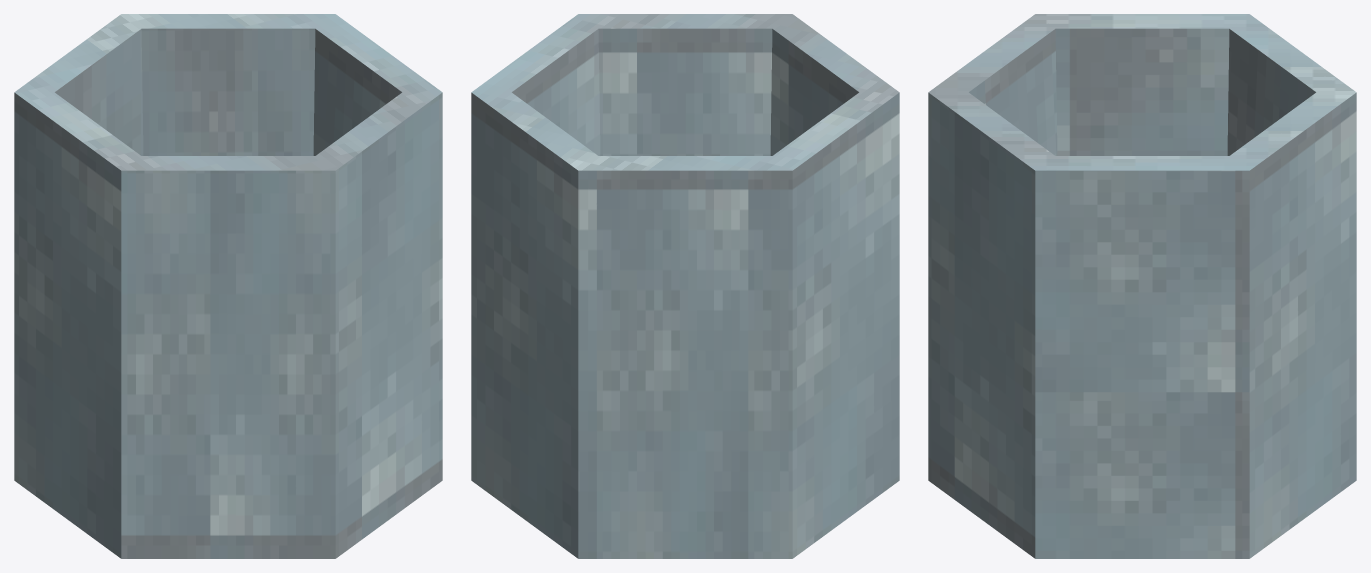
File: PSXGlassCup.glb
3 renders of one model, left to right at view 1: azimuth 30°, elevation 25°; view 2: azimuth 150°, elevation 25°; view 3: azimuth 270°, elevation 25°, orthographic.
Visible parts, largest first — view 1: Cylinder; view 2: Cylinder; view 3: Cylinder.
Boxes of the visible parts, x1=… form: Cylinder: x1=14, y1=14, x2=442, y2=558; Cylinder: x1=471, y1=14, x2=899, y2=558; Cylinder: x1=928, y1=14, x2=1356, y2=558.
Bounding box in the file's own units: 1.73 × 2 × 2.
Materials: 1 (1 with a texture image).
